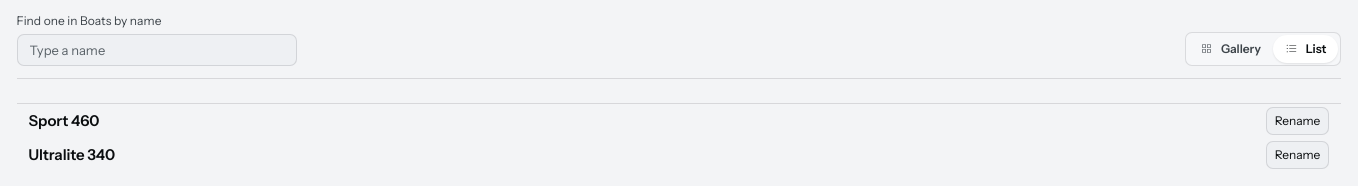
it: edit — the one fact a catalogue face owns is its name › types a new name and writes it
The image size is (1358, 186).
Click the button with aria-label "Rename Sport 460" at (1298, 121), box [1266,107,1329,135]
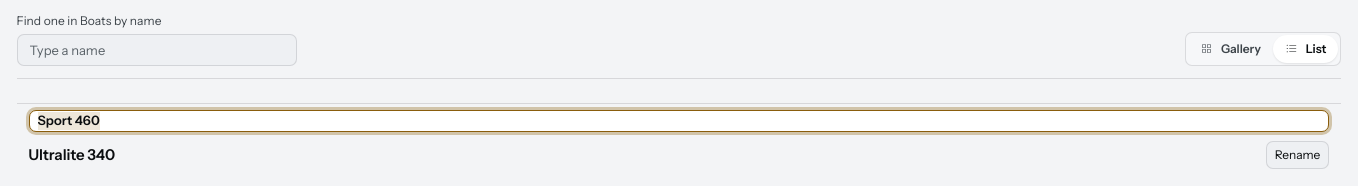
Replace the text in the field named "Rename Sport 460" with "Sport 460 X" at (679, 121), box [29,110,1329,132]
Then press Enter
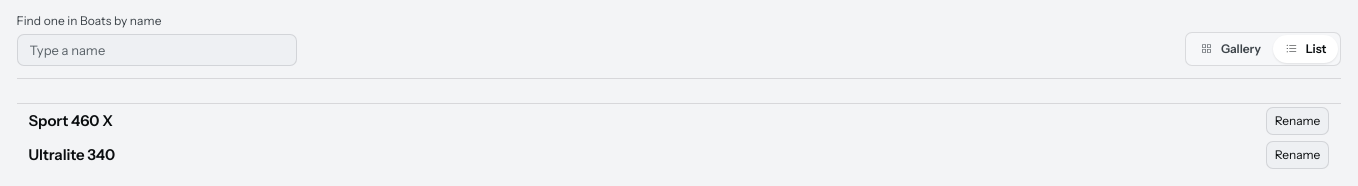
Expected: the text "Sport 460 X" is shown, [29,111,113,130]
Expected: the button "Sport 460 X" is shown, [17,104,1341,138]
